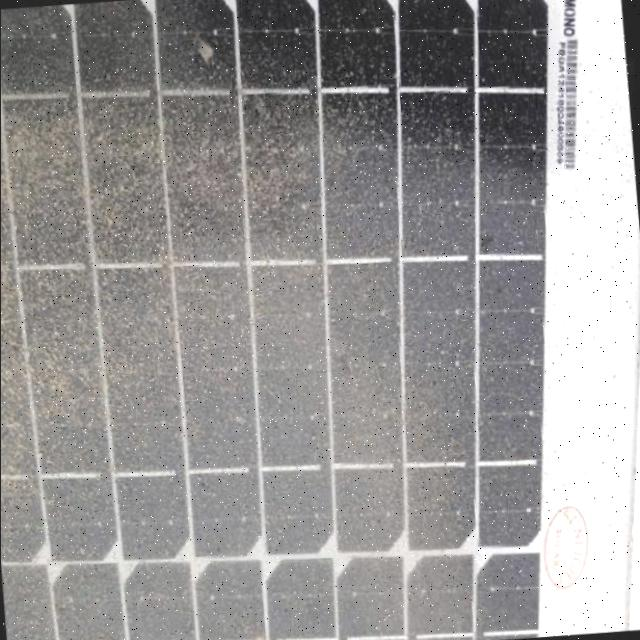Surface Contaminant: (18, 0, 577, 640)
